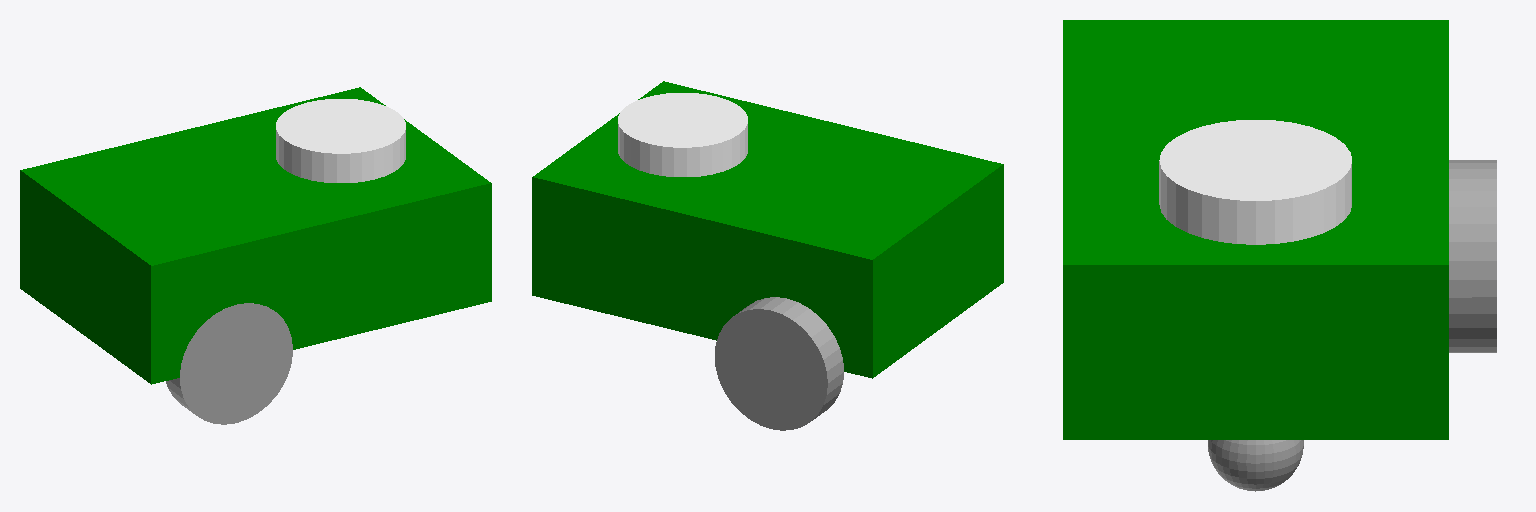
robot.urdf — my_robot:
<?xml version="1.0"?>
<robot name="my_robot">
    <material name="green">
        <color rgba="0 0.6 0 1"/>
    </material>
    
    <material name="white">
        <color rgba="1 1 1 1"/>
    </material>
    
    <material name="gray">
        <color rgba="0.7 0.7 0.7 1"/>
    </material>


    <link name="base_link">
        <visual>
            <geometry>
                <box size="0.6 0.4 0.2" />
            </geometry>
            <origin xyz="0 0 0.1" rpy="0 0 0"/>
            <material name="green"/>
        </visual>
    </link> 

    <link name="lidar">
        <visual>
            <geometry>
                <cylinder radius="0.1" length="0.05" />
            </geometry>
            <origin xyz="0 0 0" rpy="0 0 0" />
            <material name="white"/>
        </visual>
    </link>

    <link name="left_wheel">
        <visual>
            <geometry>
                <cylinder radius="0.1" length="0.05" />
            </geometry>
            <origin xyz="0 0 0.025" rpy="0 0 0" />
            <material name="gray"/>
        </visual>
    </link>
    
    <link name="caster_wheel">
    <visual>
        <geometry>
            <sphere radius="0.05" />
        </geometry>
        <origin xyz="0 0 0" rpy="0 0 0" />
        <material name="gray" />
    </visual>
    </link>
   
    <link name="base_footprint"/>
    
    <link name="right_wheel">
    <visual>
        <geometry>
            <cylinder radius="0.1" length="0.05" />
        </geometry>
        <origin xyz="0 0 0.025" rpy="0 0 0" />
        <material name="gray"/>
    </visual>
    </link>

    <joint name="base_joint" type="fixed">
        <parent link="base_footprint" />
        <child link="base_link" />
        <origin xyz="0 0 0.1" rpy="0 0 0" />
    </joint>

    <joint name="base_right_wheel_joint" type="continuous">
        <parent link="base_link"/>
        <child link="right_wheel"/>
        <origin xyz="-0.15 -0.2 0" rpy="-1.57 0 0"/>
        <axis xyz="0 0 1"/>
    </joint>
    
    <joint name="base_left_wheel_joint" type="continuous">
        <parent link="base_link"/>
        <child link="left_wheel"/>
        <origin xyz="-0.15 0.2 0" rpy="-1.57 0 0"/>
        <axis xyz="0 0 1"/>
    </joint>
    
    <joint name="base_caster_wheel_joint" type="fixed">
        <parent link="base_link" />
        <child link="caster_wheel"/>
        <origin xyz="0.2 0 -0.05" rpy="0 0 0" />
    </joint>

    <joint name="base_lidar_joint" type="fixed">
        <parent link="base_link"/>
        <child link="lidar"/>
        <origin xyz="0.15 0 0.225" rpy="0 0 0"/>
    </joint>
</robot>

--- What the picture shows (computed from the rendered views, not written in the file) ---
Views: 3 orthographic renders of the robot side by side, from view 1: azimuth 30°, elevation 25°; view 2: azimuth 150°, elevation 25°; view 3: azimuth 270°, elevation 25°.
Robot: my_robot — 6 links, 5 joints (2 continuous, 3 fixed); root link base_footprint; default pose: all joints at 0.
Links seen in each view (by area): view 1: base_link, right_wheel, lidar; view 2: base_link, left_wheel, lidar; view 3: base_link, lidar, left_wheel, caster_wheel.
Boxes of the visible links, <box> form: base_link: <box>20,87,491,384</box>; right_wheel: <box>166,303,292,424</box>; lidar: <box>276,99,405,182</box>; base_link: <box>532,81,1003,378</box>; left_wheel: <box>715,297,843,430</box>; lidar: <box>618,93,747,176</box>; base_link: <box>1063,20,1448,439</box>; lidar: <box>1159,120,1351,244</box>; left_wheel: <box>1449,160,1496,352</box>; caster_wheel: <box>1208,440,1303,491</box>.
Bounding box of the posed robot: 0.6 × 0.4502 × 0.35 m (x, y, z).
Geometry: primitives only (box / cylinder / sphere), no mesh files.
